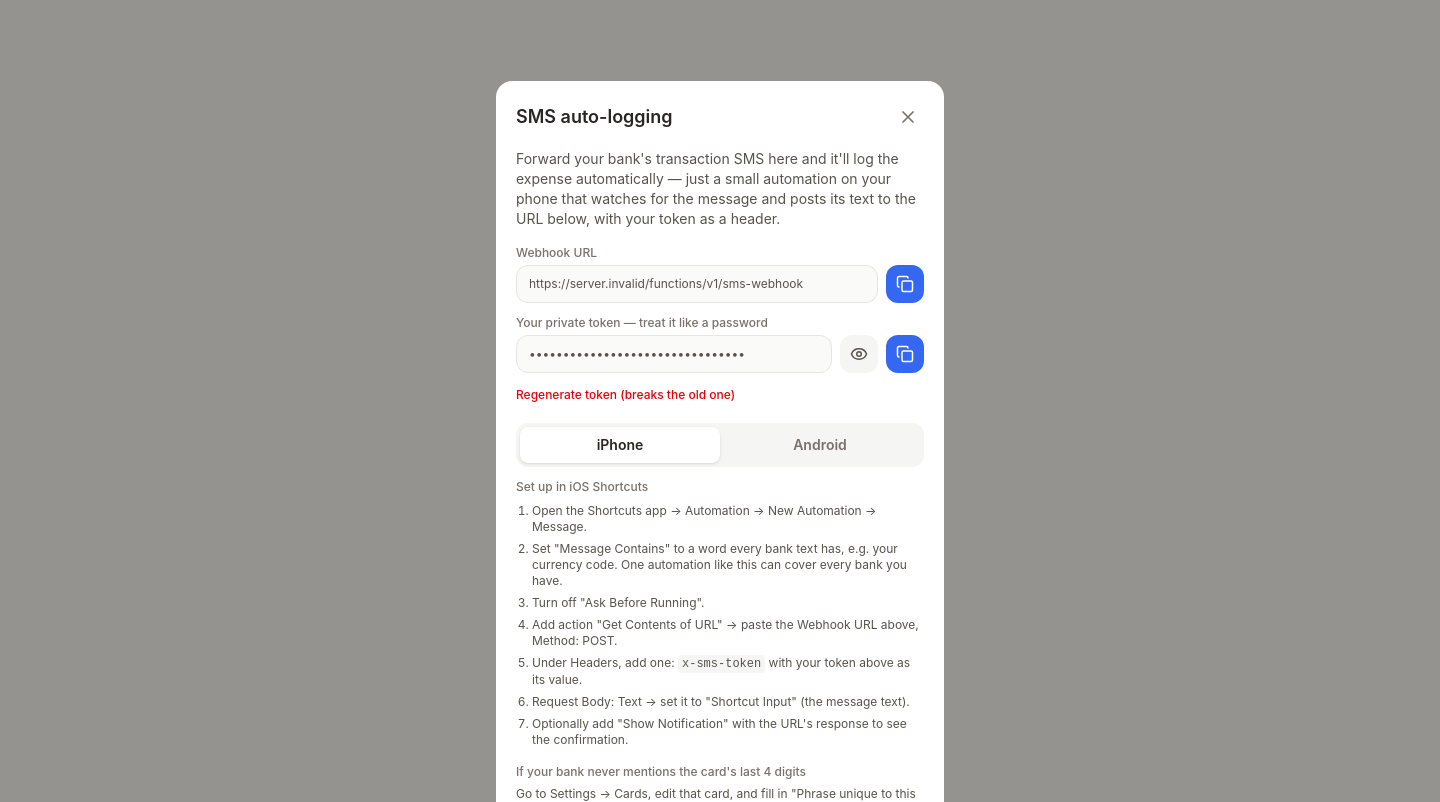
it: SmsAutoLogSheet › switches instructions when the platform is changed by hand
Click the button "Android" at [820, 445], box [720, 427, 920, 463]
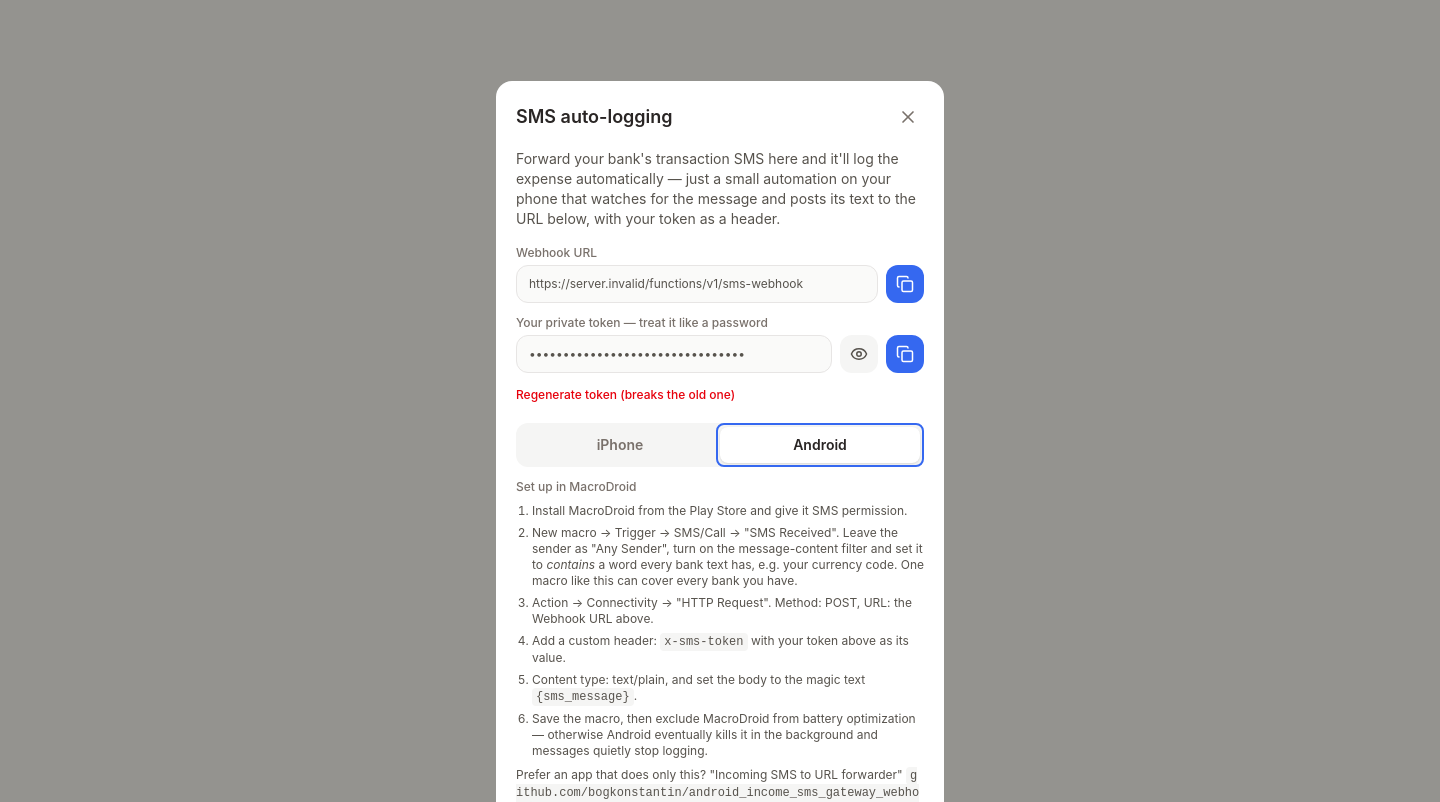
expect the text "Set up in MacroDroid" is shown: met, box [516, 479, 636, 494]
expect the text "Set up in iOS Shortcuts" is gone: met
Click the button "iPhone" at [620, 445], box [520, 427, 720, 463]
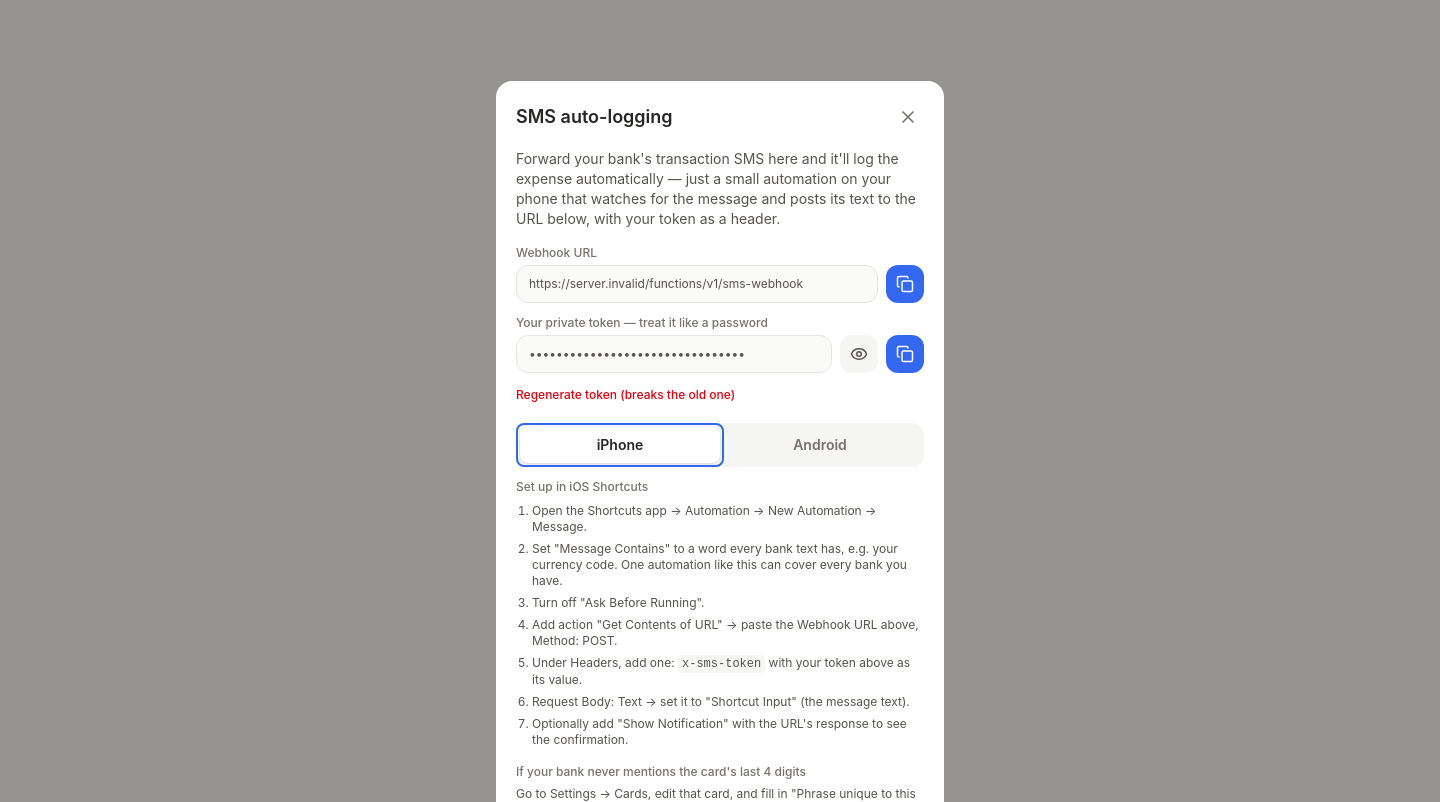
expect the text "Set up in iOS Shortcuts" is shown: met, box [516, 479, 648, 494]
